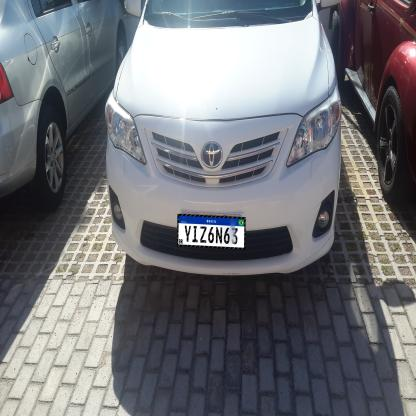PlacaM: (177, 214, 246, 249)
